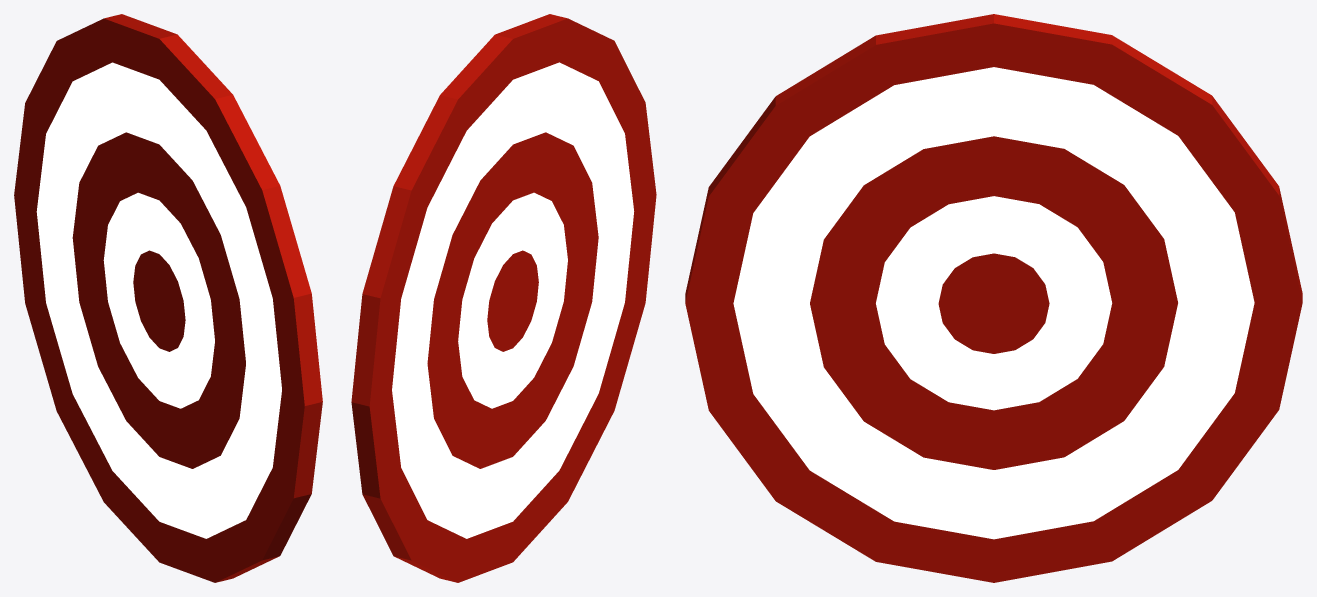
File: TargetCollider.fbx
3 renders of one model, left to right at view 1: azimuth 30°, elevation 25°; view 2: azimuth 150°, elevation 25°; view 3: azimuth 270°, elevation 25°, orthographic. The views are drawn at different scales.
Parts seen in each view (by area): view 1: Collider5, Collider4, collider3, Collider2, Collider1; view 2: Collider5, Collider4, collider3, Collider2, Collider1; view 3: Collider4, Collider5, collider3, Collider2, Collider1.
Boxes of the visible parts, x1,y1,x2,y2 form: Collider5: (14, 14, 322, 582); Collider4: (36, 62, 281, 538); collider3: (72, 132, 245, 468); Collider2: (103, 192, 214, 408); Collider1: (133, 250, 185, 351); Collider5: (351, 14, 656, 582); Collider4: (392, 62, 634, 538); collider3: (427, 132, 598, 468); Collider2: (458, 192, 567, 408); Collider1: (487, 250, 538, 351); Collider4: (733, 67, 1254, 539); Collider5: (685, 14, 1302, 582); collider3: (810, 136, 1177, 469); Collider2: (876, 196, 1112, 410); Collider1: (938, 253, 1049, 353).
Size of the model in its own units: 72.61 by 1820 by 1820.
